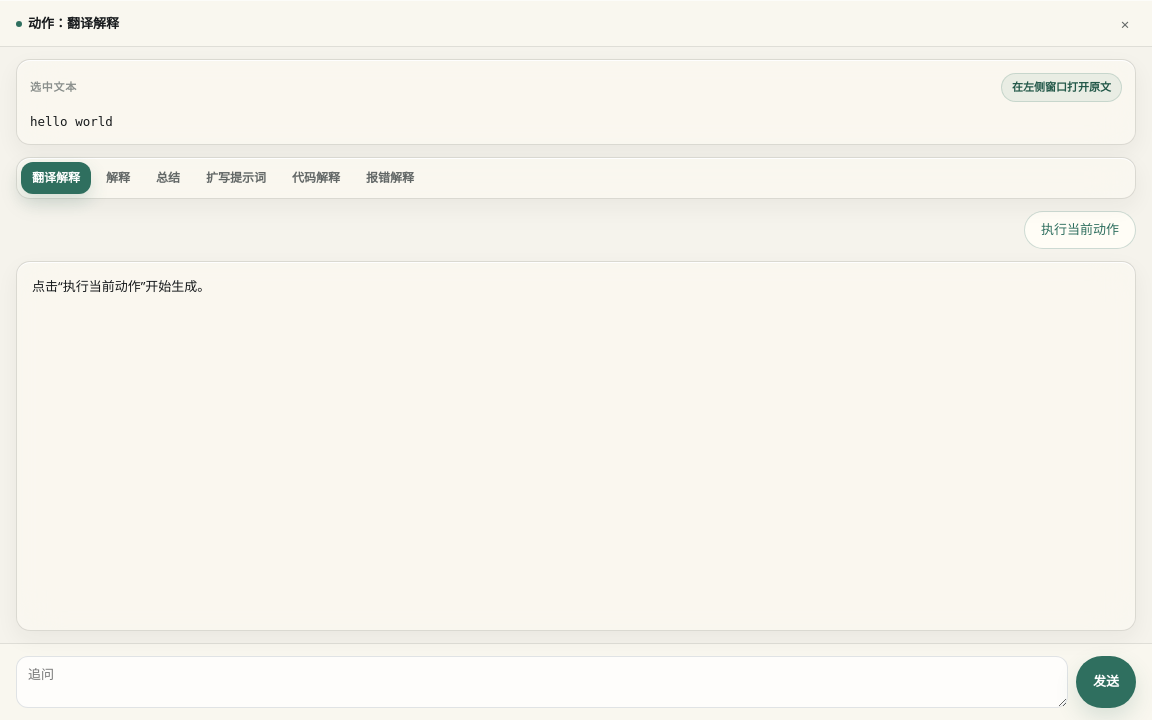
Test case: App routing by Tauri window label › shows running feedback after receiving selected text and clicking an AI panel action
The image size is (1152, 720).
Click the button "总结": (168, 178) [145,162,191,194]
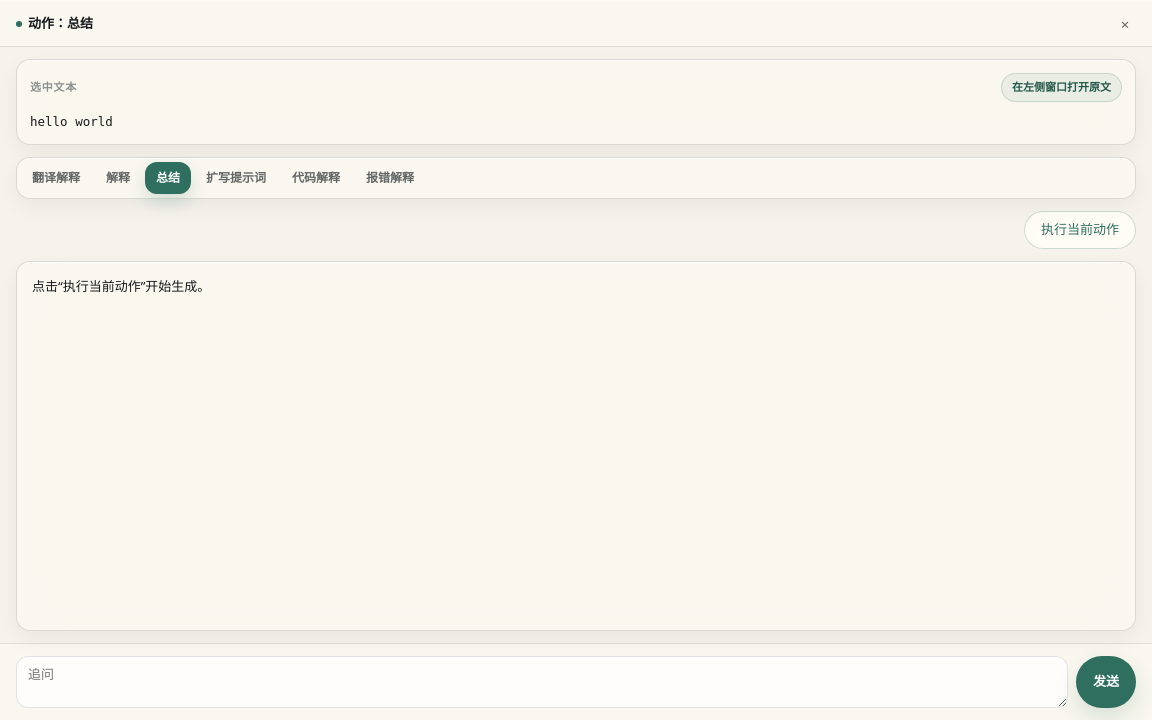
Click the button "执行当前动作": (1080, 230) [1024,211,1136,249]
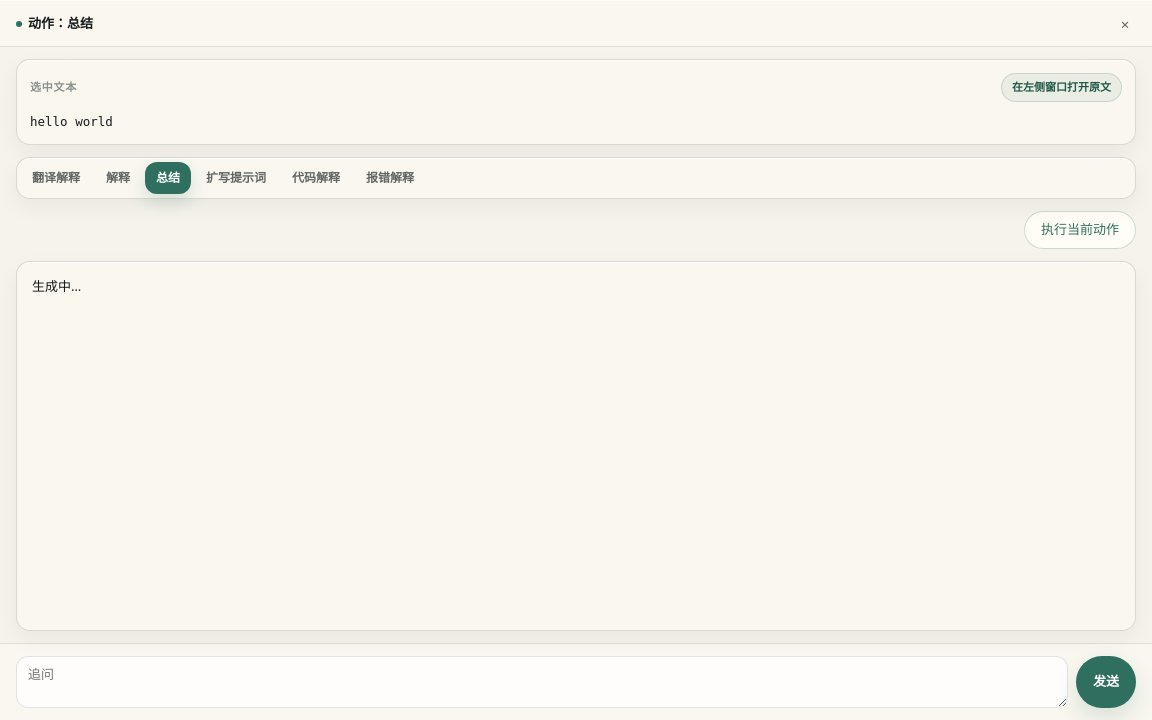
Expected: the text "动作：总结" is shown, [16,14,93,34]
Expected: the text "生成中…" is shown, [16,261,1136,631]
